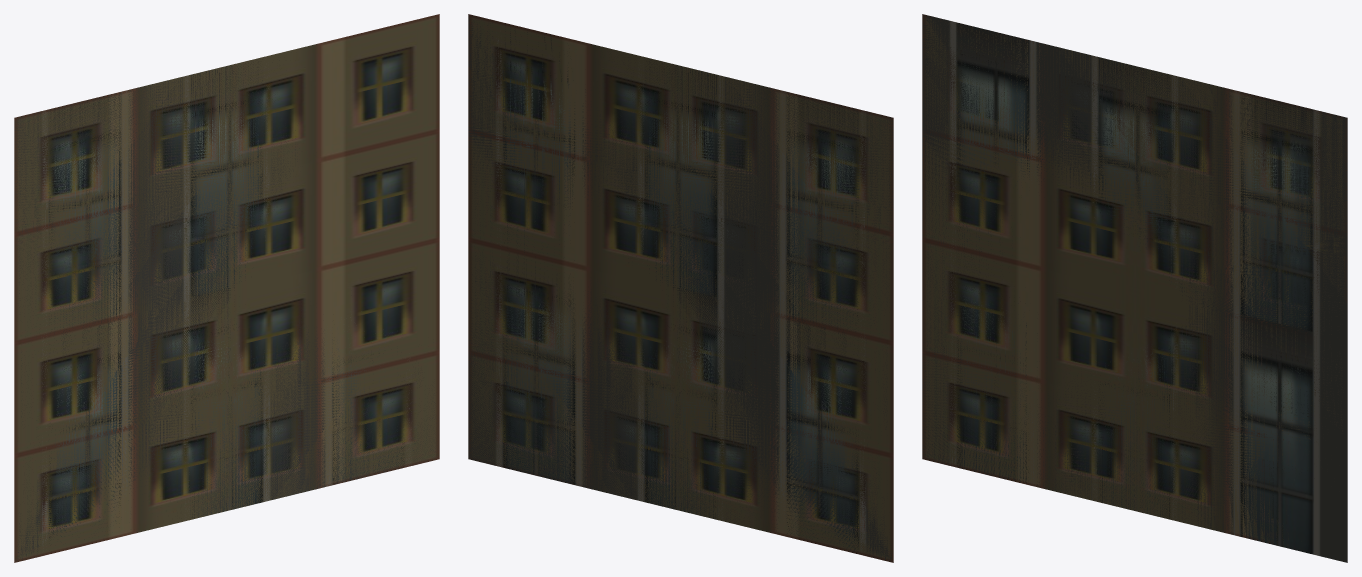
File: walls.glb
3 renders of one model, left to right at view 1: azimuth 30°, elevation 25°; view 2: azimuth 150°, elevation 25°; view 3: azimuth 330°, elevation 25°, orthographic.
Parts seen in each view (by area): view 1: wall_cogdo_build1_ur, wall_cogdo_build2_ur; view 2: wall_cogdo_build1_ur, wall_cogdo_build2_ur; view 3: wall_cogdo_build1_ur, wall_cogdo_build2_ur.
Part boxes in pixels (x1=…): wall_cogdo_build1_ur: x1=14, y1=14, x2=439, y2=562; wall_cogdo_build2_ur: x1=14, y1=58, x2=438, y2=561; wall_cogdo_build1_ur: x1=468, y1=14, x2=893, y2=562; wall_cogdo_build2_ur: x1=468, y1=15, x2=893, y2=562; wall_cogdo_build1_ur: x1=922, y1=14, x2=1347, y2=546; wall_cogdo_build2_ur: x1=922, y1=14, x2=1347, y2=562.
Bounding box in the file's own units: 1 × 1 × 0.
Materials: 1 (1 with a texture image).
